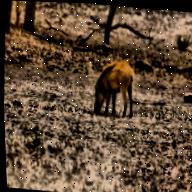boar: (81, 52, 139, 123)
